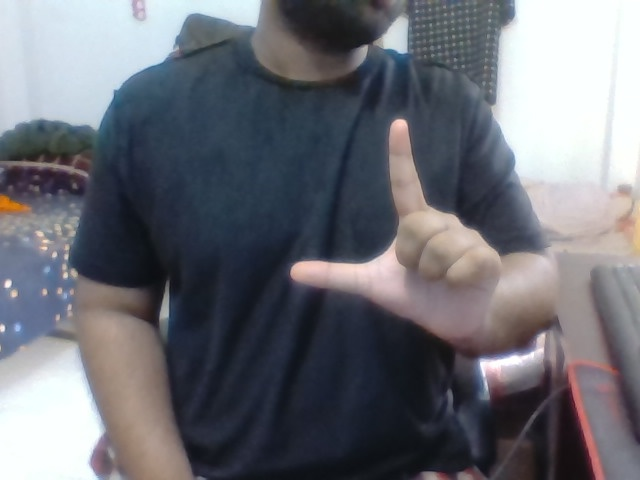L: (267, 114, 508, 361)
